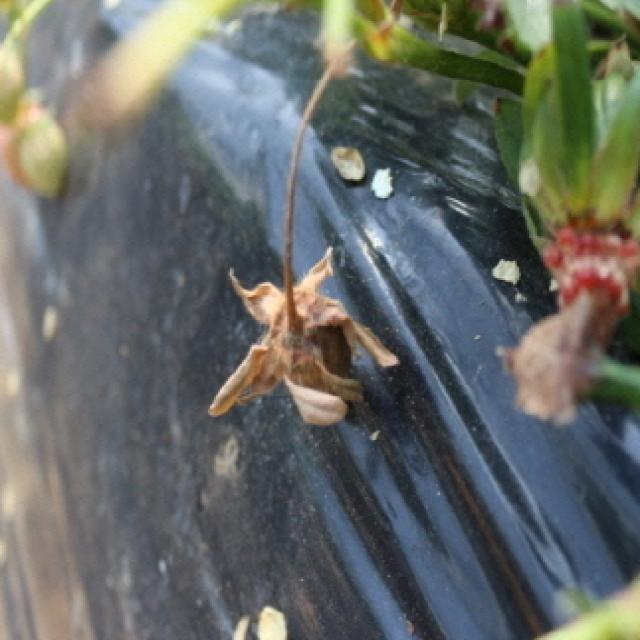Gray Mold: (207, 245, 400, 428), (495, 205, 640, 426)
